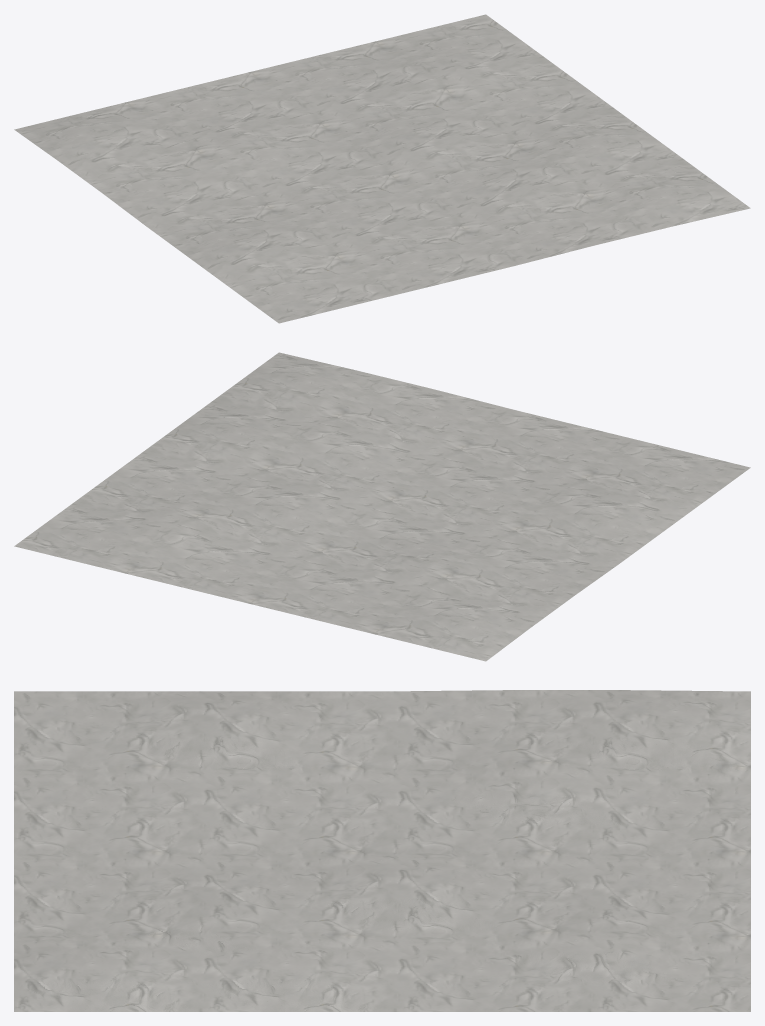
File: Snow2Texture.fbx
3 renders of one model, top to bottom at view 1: azimuth 30°, elevation 25°; view 2: azimuth 150°, elevation 25°; view 3: azimuth 270°, elevation 25°, orthographic. The views are drawn at different scales.
Visible parts, largest first — view 1: Plane.004; view 2: Plane.004; view 3: Plane.004.
Part boxes in pixels (bbox=[...]): Plane.004: bbox=[14, 14, 750, 323]; Plane.004: bbox=[14, 352, 750, 661]; Plane.004: bbox=[14, 690, 750, 1011].
Size of the model in its own units: 6744 by 70.37 by 6556.
1 material, 1 textured.
